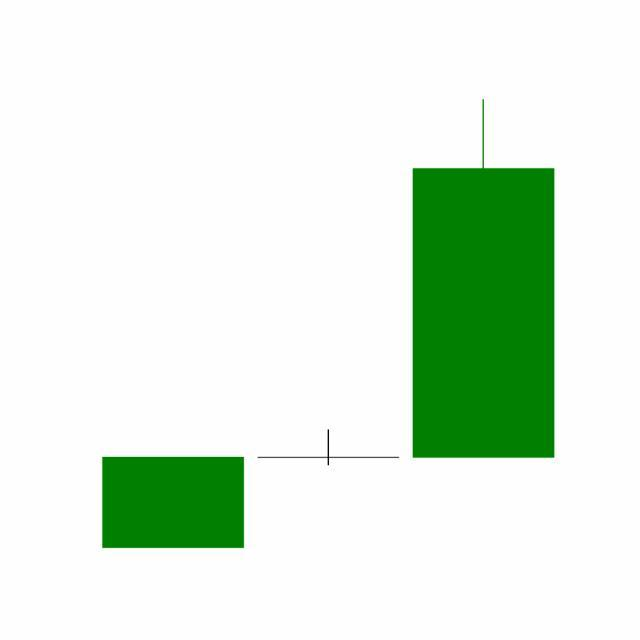Spinning Top: (250, 429, 407, 467)
